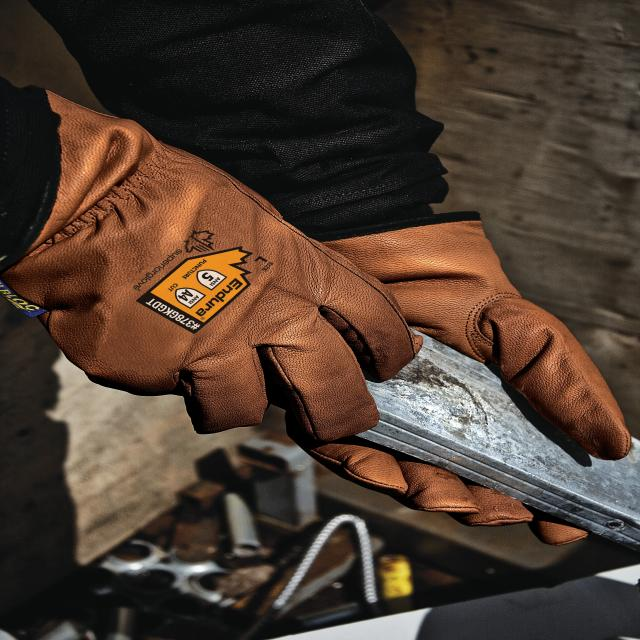gloves: (0, 93, 430, 444), (284, 202, 634, 468)
